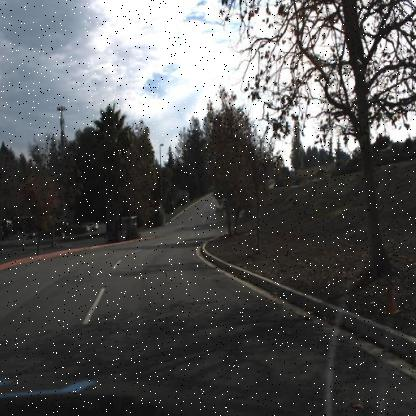car: (84, 219, 100, 232)
truck: (10, 211, 40, 237)
